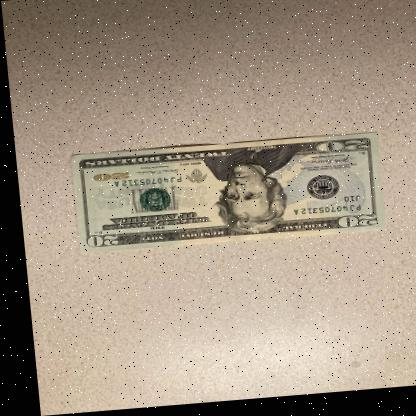twenty-front: (65, 134, 381, 254)
